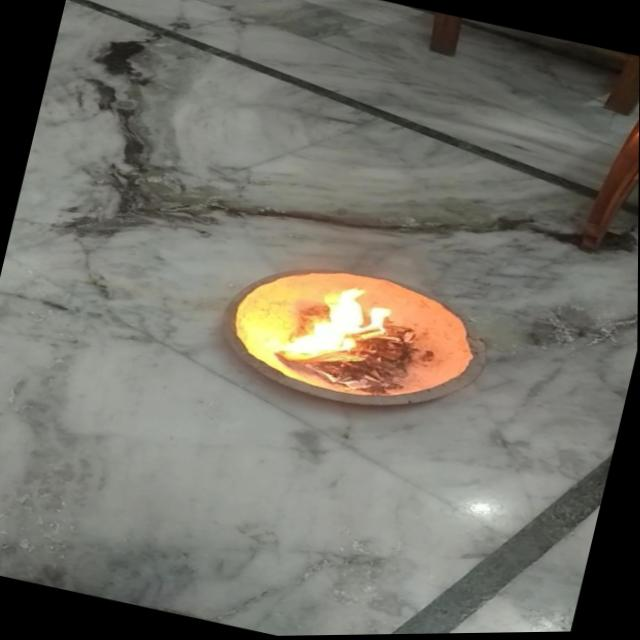fire: (274, 271, 410, 384)
